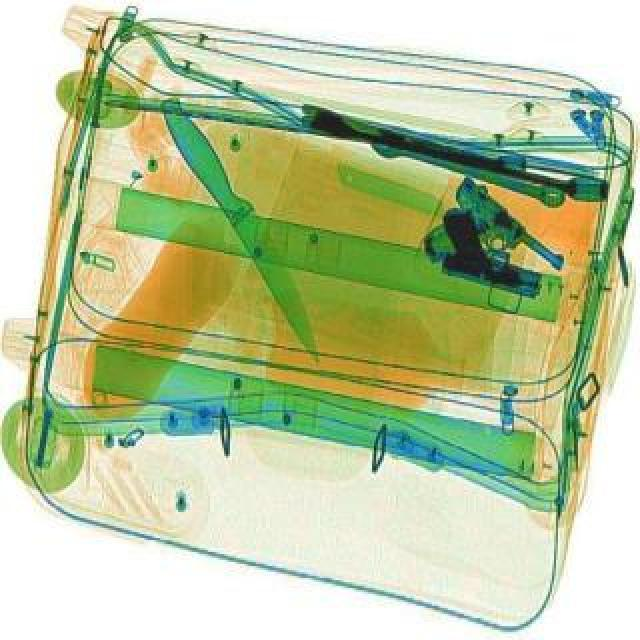gun: (404, 176, 572, 326), (428, 210, 558, 302)
knife: (154, 98, 338, 376)
scissors: (366, 132, 566, 216)
